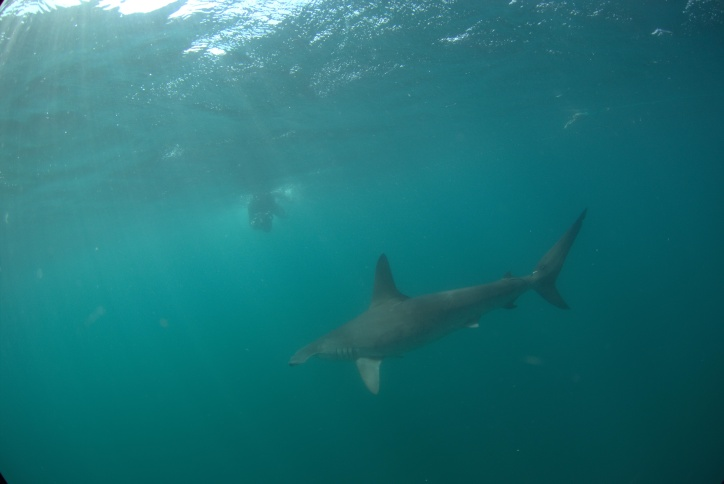Hammer: (288, 199, 612, 402)
